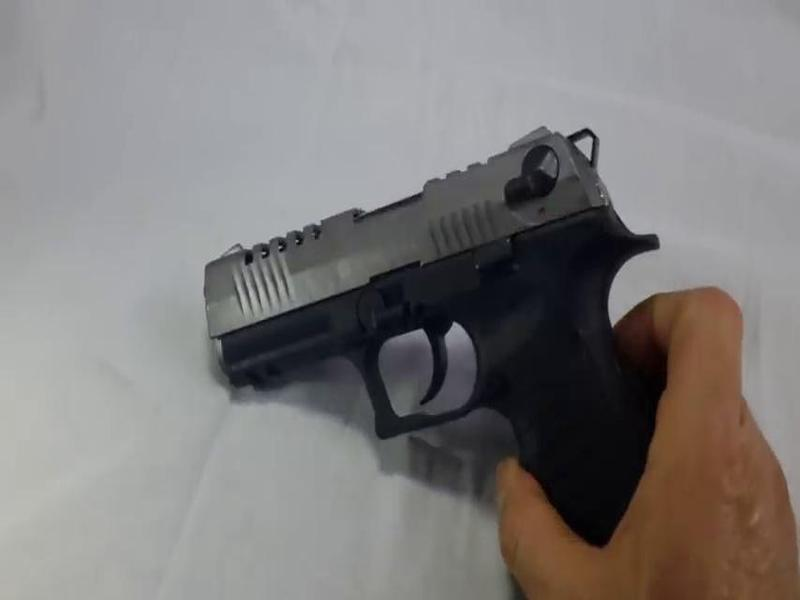Pistola: (203, 105, 681, 545)
